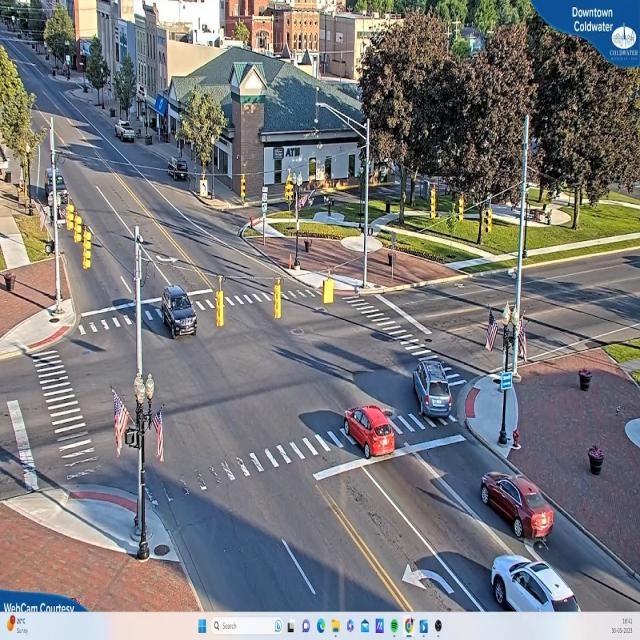car: (474, 468, 558, 538), (496, 557, 588, 610), (409, 359, 456, 426), (344, 404, 397, 462), (159, 288, 198, 339), (116, 123, 136, 143)
